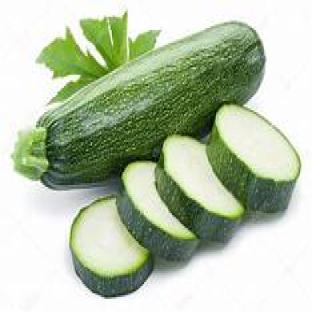Zucchini: (14, 23, 265, 188), (207, 105, 299, 212), (156, 135, 243, 241), (70, 197, 153, 297), (118, 161, 198, 261)
